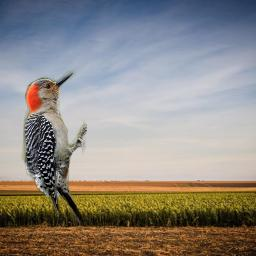Woodpecker: (18, 68, 87, 233)
